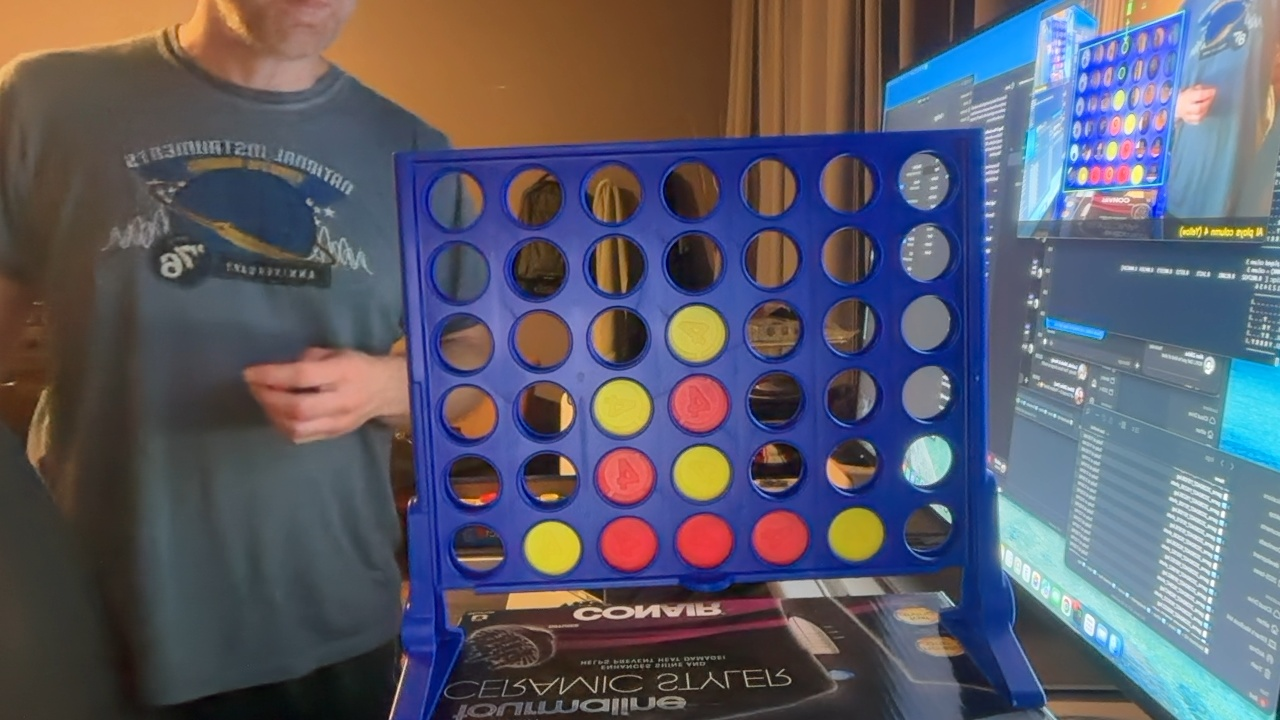red piece: (670, 375, 729, 433), (596, 448, 655, 505), (600, 517, 657, 572), (676, 514, 733, 569), (752, 510, 809, 565)
yellow piece: (667, 304, 726, 363), (592, 379, 652, 437), (673, 445, 731, 501), (523, 521, 581, 575), (828, 507, 884, 562)
